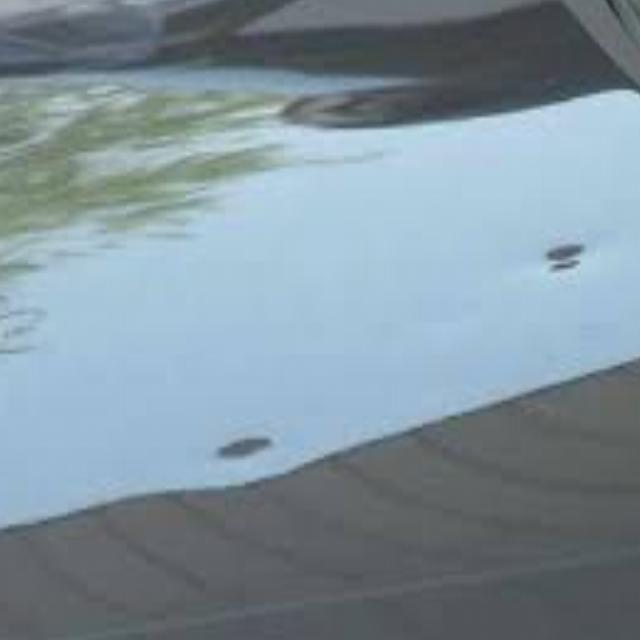dents: (209, 409, 296, 497), (526, 223, 598, 295)
